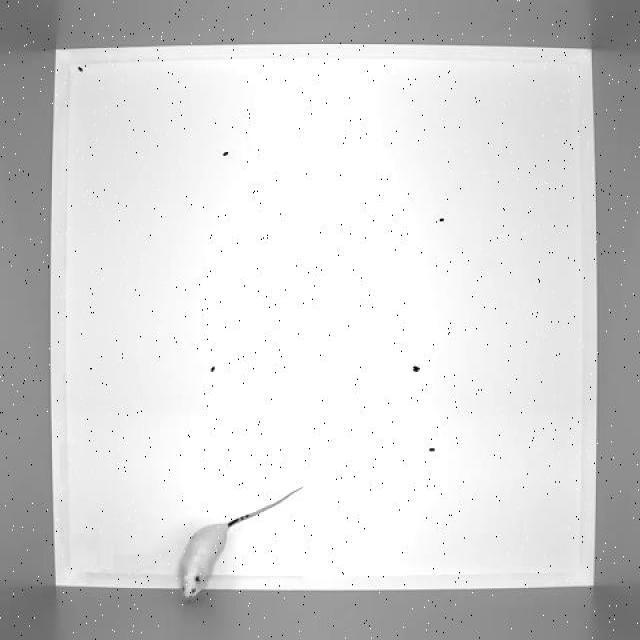rat: (179, 486, 307, 602)
